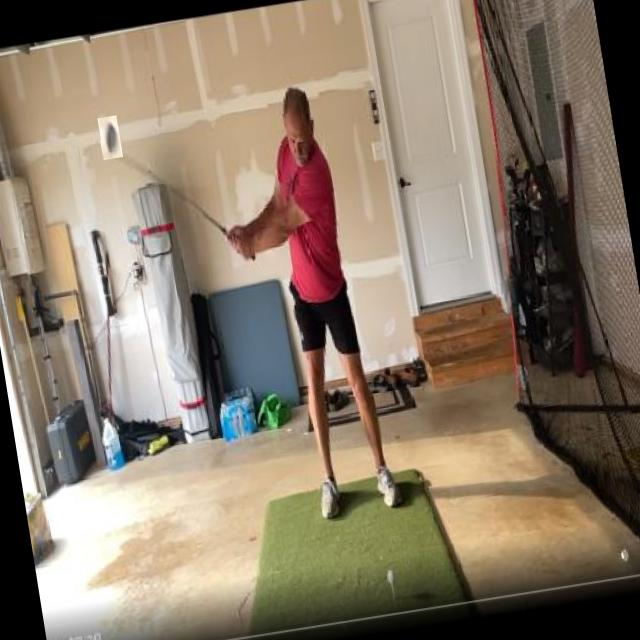club head: (98, 116, 123, 160)
